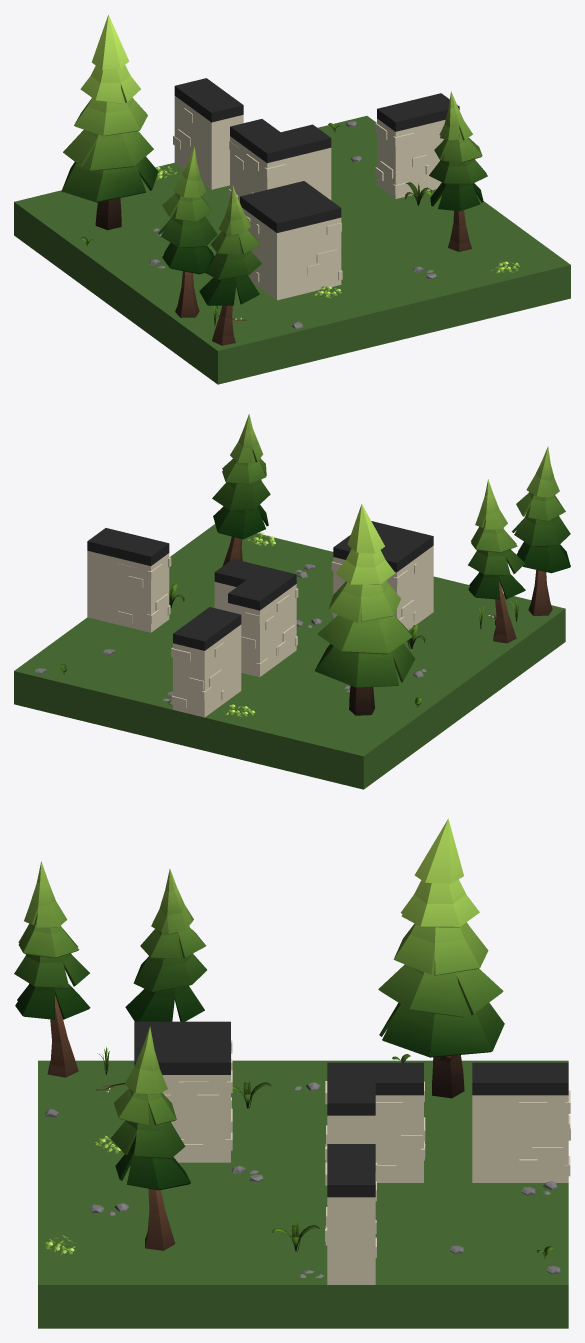
File: arena_1.glb
3 renders of one model, top to bottom at view 1: azimuth 30°, elevation 25°; view 2: azimuth 150°, elevation 25°; view 3: azimuth 270°, elevation 25°, orthographic. The views are drawn at different scales.
Visible parts, largest first — view 1: tree_big.001, tree_small.001, tree_small.004, tree_small.002, wall_brick.008, wall_brick.006, wall_plain.005, wall_plain.009, wall_brick.003, wall_plain.012, Cube.096, wall_brick.001 (+55 smaller); view 2: tree_big.001, tree_small.004, tree_small.002, tree_small.001, wall_brick.006, wall_brick.001, wall_brick.007, wall_plain.010, Cube.063, wall_brick.003, wall_plain.005, wall_brick.008 (+55 smaller); view 3: tree_big.001, tree_small.002, tree_small.004, tree_small.001, wall_brick.001, wall_brick.002, wall_brick.007, wall_plain.010, wall_plain.005, Cube.103, Cube.025, Cube.026 (+79 smaller).
Part boxes in pixels (x1,y1,x2,y2): tree_big.001: (61,14,158,230); tree_small.001: (158,146,217,317); tree_small.004: (199,185,261,345); tree_small.002: (429,91,487,251); wall_brick.008: (258,202,309,300); wall_brick.006: (375,101,428,198); wall_plain.005: (193,91,243,189); wall_plain.009: (291,194,342,292); wall_brick.003: (247,132,299,194); wall_plain.012: (281,124,331,200); Cube.096: (199,331,249,384); wall_brick.001: (173,78,224,169); tree_big.001: (314,504,415,715); tree_small.004: (512,446,570,615); tree_small.002: (212,414,270,565); tree_small.001: (468,479,525,643); wall_brick.006: (118,535,171,632); wall_brick.001: (171,620,224,717); wall_brick.007: (228,580,278,677); wall_plain.010: (87,528,137,624); Cube.063: (332,735,381,789); wall_brick.003: (247,566,298,663); wall_plain.005: (192,607,241,703); wall_brick.008: (384,528,433,624); tree_big.001: (378,818,504,1098); tree_small.002: (110,1026,190,1250); tree_small.004: (14,861,90,1077); tree_small.001: (125,869,206,1021); wall_brick.001: (519,1062,570,1182); wall_brick.002: (181,1042,232,1162); wall_brick.007: (375,1062,425,1182); wall_plain.010: (327,1164,375,1284); wall_plain.005: (472,1062,520,1182); Cube.103: (134,1264,182,1328); Cube.025: (375,1264,423,1328); Cube.026: (182,1264,230,1328).
Bounding box in the file's own units: 22.5 × 14.48 × 23.08.
14 materials, 9 textured.
